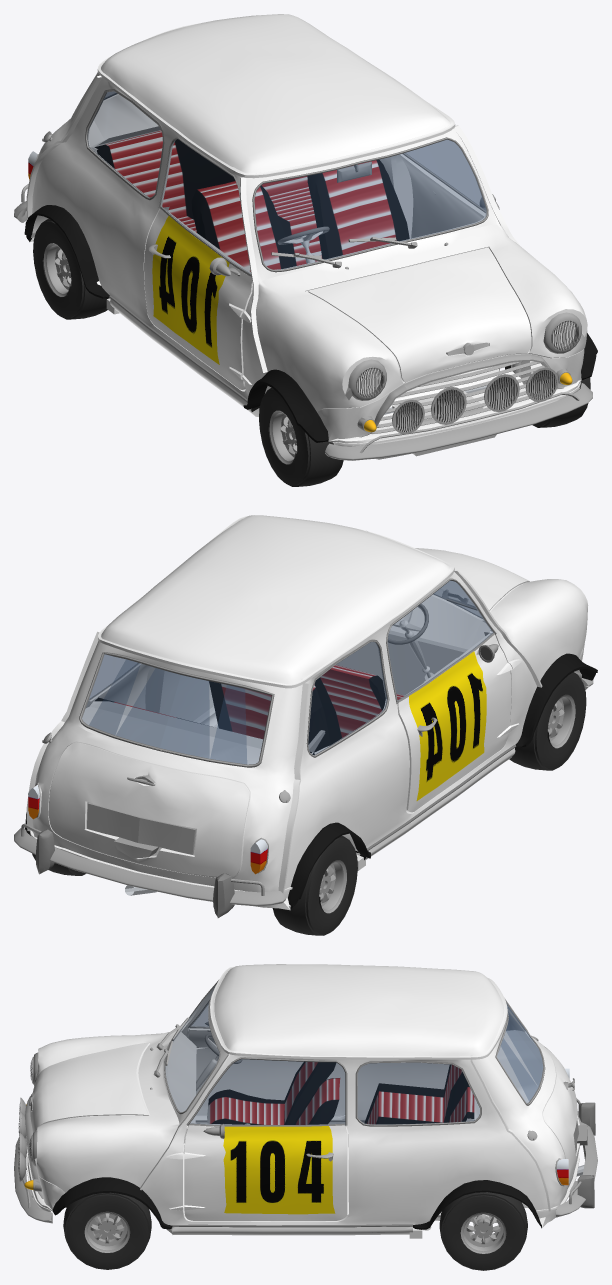
3 renders of one model, top to bottom at view 1: azimuth 30°, elevation 25°; view 2: azimuth 150°, elevation 25°; view 3: azimuth 270°, elevation 25°, orthographic. The views are drawn at different scales.
Visible parts, largest first — view 1: Polygon_Objekt_20, Polygon_Objekt_21, Polygon_Objekt_10, Polygon_Objekt_3, Polygon_Objekt_8, Polygon_Objekt_15, Polygon_Objekt_17, Polygon_Objekt_7, Polygon_Objekt_6, Polygon_Objekt_22, Polygon_Objekt_9, Polygon_Objekt_14 (+2 smaller); view 2: Polygon_Objekt_20, Polygon_Objekt_21, Polygon_Objekt_10, Polygon_Objekt_3, Polygon_Objekt_17, Polygon_Objekt_15, Polygon_Objekt_14, Polygon_Objekt_22, Polygon_Objekt_6, Polygon_Objekt_7, Polygon_Objekt_5, Polygon_Objekt_4; view 3: Polygon_Objekt_20, Polygon_Objekt_21, Polygon_Objekt_10, Polygon_Objekt_16, Polygon_Objekt_3, Polygon_Objekt_15, Polygon_Objekt_8, Polygon_Objekt_6, Polygon_Objekt_14, Polygon_Objekt_22, Polygon_Objekt_7, Polygon_Objekt_4 (+1 smaller).
Boxes of the visible parts, box(x1,y1,x2,y2) form: Polygon_Objekt_20: box(26, 70, 587, 459); Polygon_Objekt_21: box(97, 14, 455, 178); Polygon_Objekt_10: box(87, 91, 486, 273); Polygon_Objekt_3: box(14, 90, 592, 464); Polygon_Objekt_8: box(95, 131, 321, 266); Polygon_Objekt_15: box(33, 219, 590, 486); Polygon_Objekt_17: box(152, 216, 229, 364); Polygon_Objekt_7: box(307, 159, 409, 259); Polygon_Objekt_6: box(191, 181, 293, 271); Polygon_Objekt_22: box(24, 205, 597, 442); Polygon_Objekt_9: box(357, 320, 578, 432); Polygon_Objekt_14: box(85, 89, 488, 402); Polygon_Objekt_20: box(26, 530, 588, 910); Polygon_Objekt_21: box(98, 515, 454, 688); Polygon_Objekt_10: box(82, 580, 493, 764); Polygon_Objekt_3: box(14, 579, 593, 913); Polygon_Objekt_17: box(409, 651, 486, 800); Polygon_Objekt_15: box(32, 672, 586, 935); Polygon_Objekt_14: box(35, 578, 516, 917); Polygon_Objekt_22: box(25, 653, 597, 909); Polygon_Objekt_6: box(314, 665, 403, 744); Polygon_Objekt_7: box(209, 681, 330, 752); Polygon_Objekt_5: box(28, 784, 267, 874); Polygon_Objekt_4: box(356, 610, 433, 870); Polygon_Objekt_20: box(26, 984, 579, 1235); Polygon_Objekt_21: box(210, 964, 507, 1059); Polygon_Objekt_10: box(165, 985, 543, 1124); Polygon_Objekt_16: box(223, 1126, 335, 1214); Polygon_Objekt_3: box(14, 980, 597, 1253); Polygon_Objekt_15: box(63, 1192, 527, 1270); Polygon_Objekt_8: box(364, 1064, 474, 1124); Polygon_Objekt_6: box(207, 1061, 335, 1124); Polygon_Objekt_14: box(164, 982, 595, 1227); Polygon_Objekt_22: box(52, 1177, 541, 1229); Polygon_Objekt_7: box(294, 1078, 340, 1124); Polygon_Objekt_4: box(66, 1038, 497, 1238).
Size of the model in its own units: 39 by 33.59 by 79.94.
16 materials, 5 textured.
